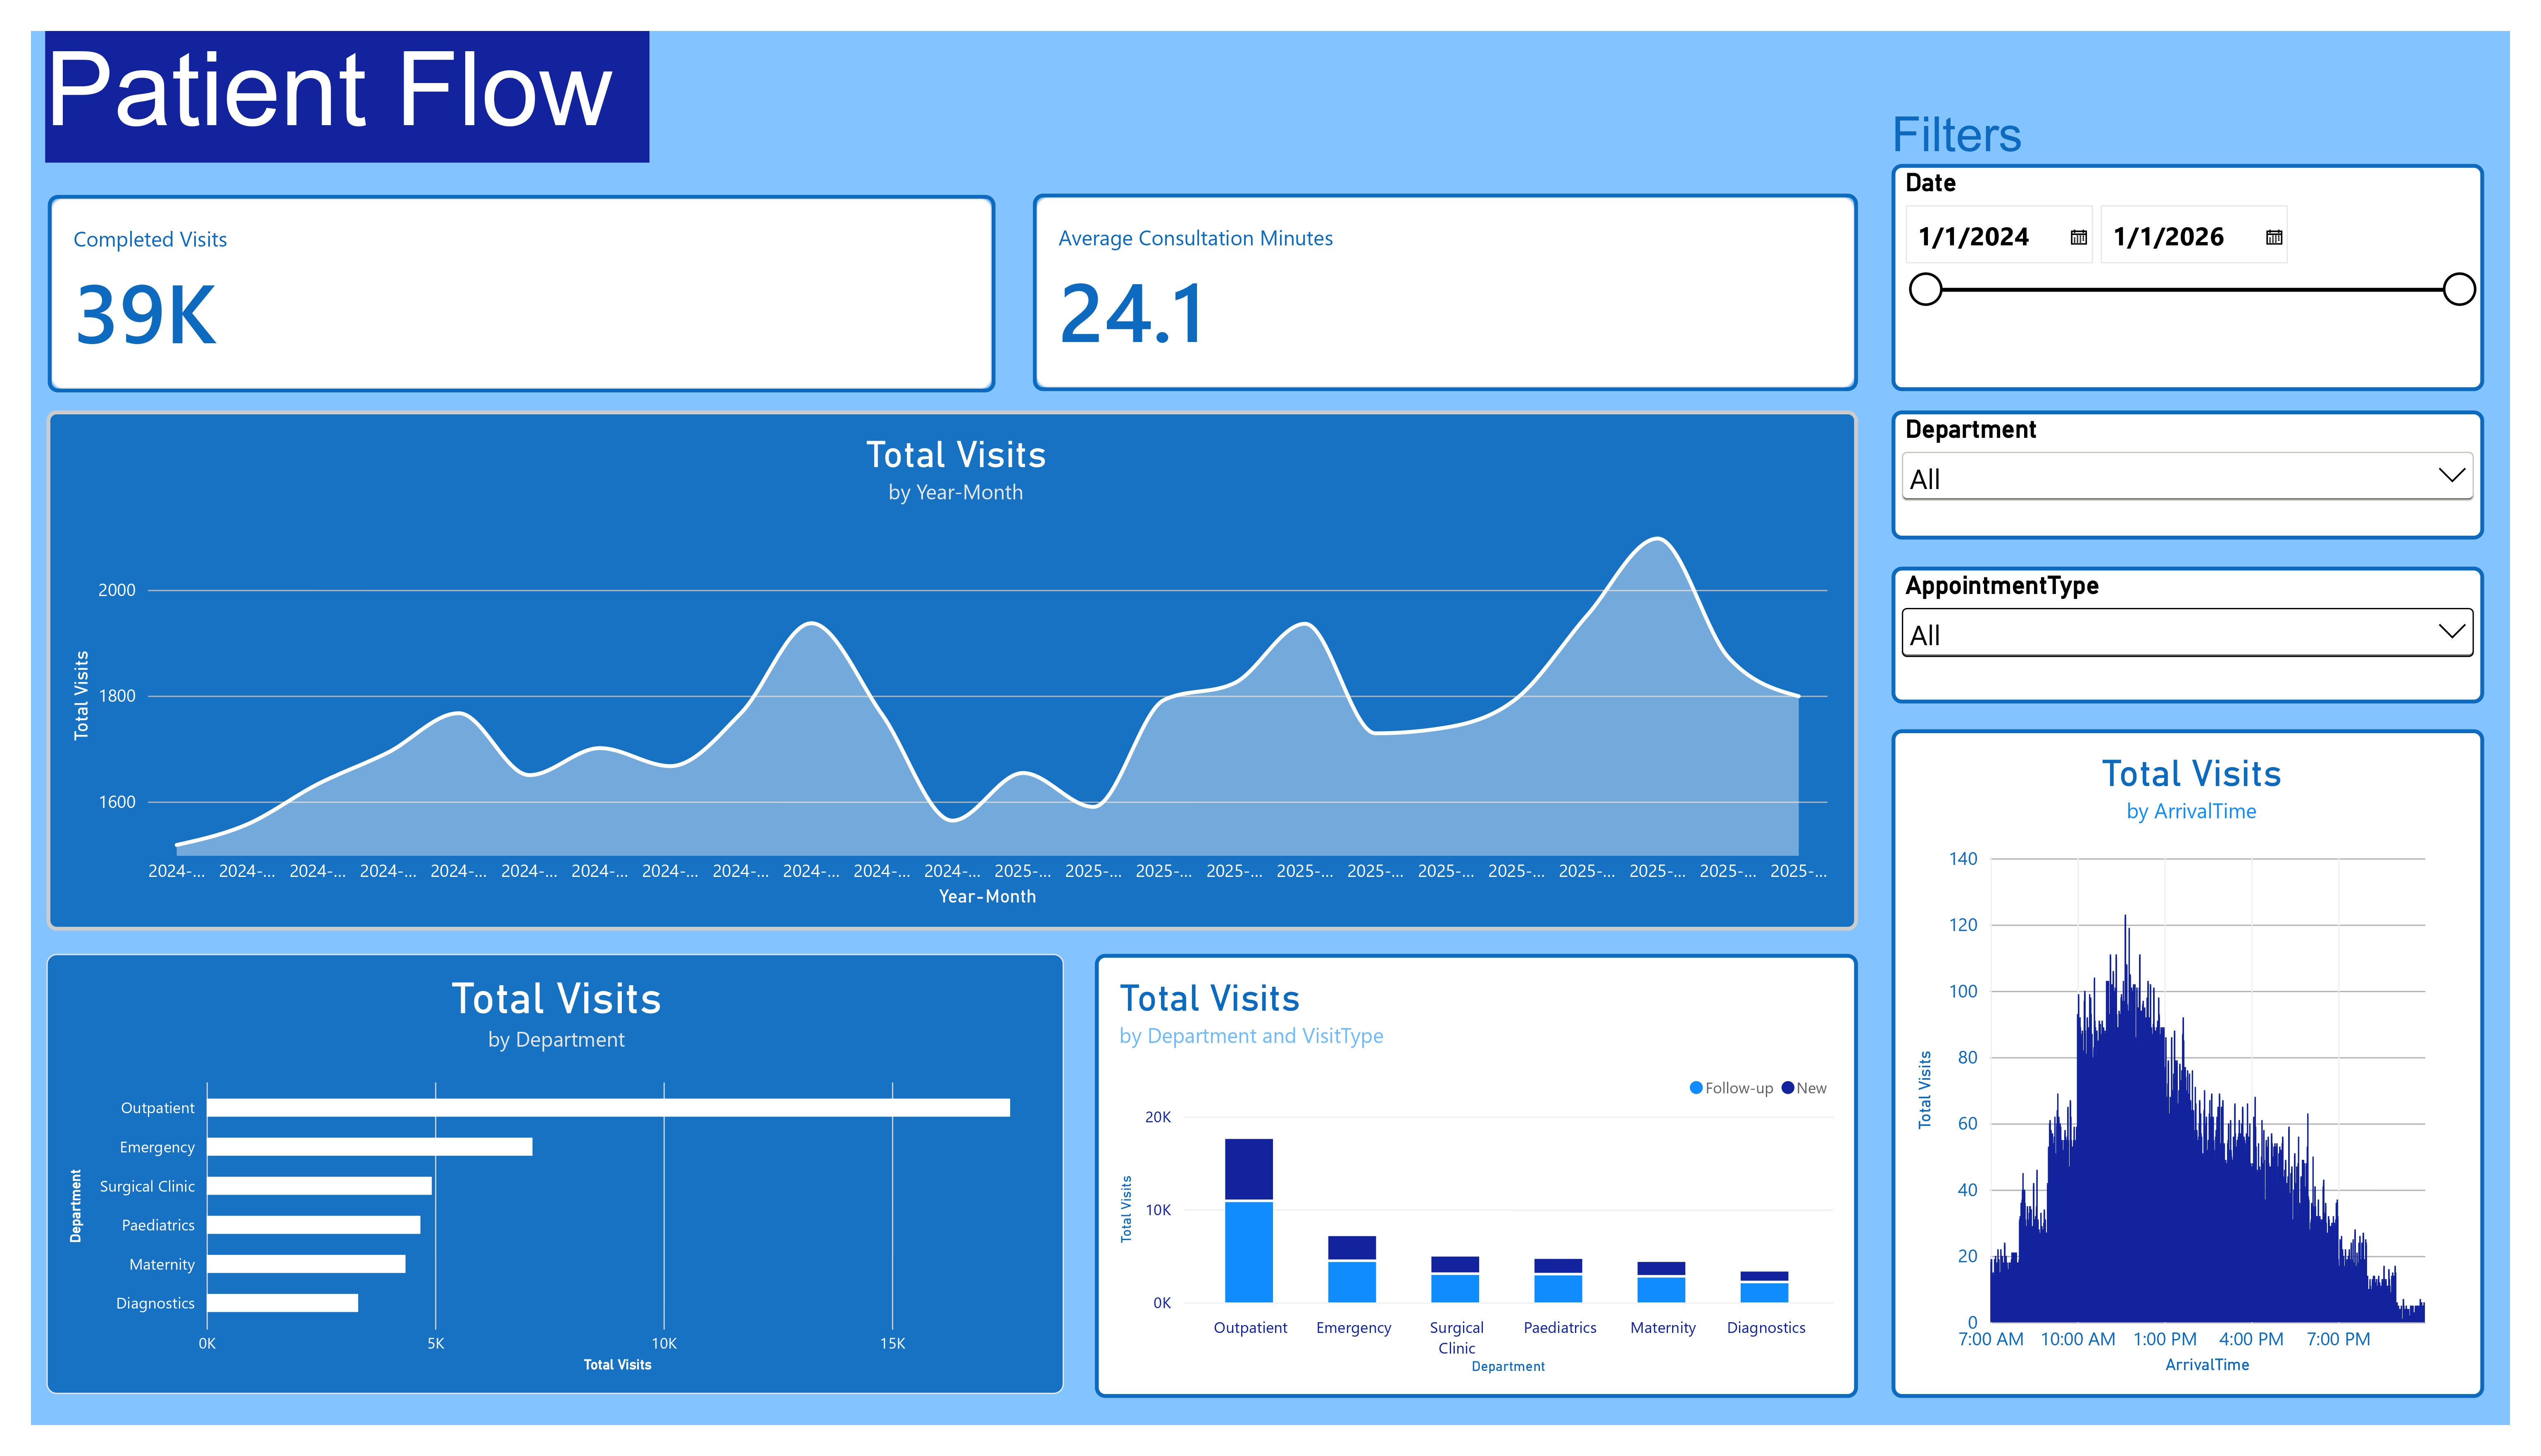

This screenshot's page, from the dashboard's own definition file:
{"tool":"powerbi","page":{"name":"Patient Flow","canvas":[1920,1080],"ordinal":1},"visuals":[{"type":"lineChart","fields":{"Category":["Calendar.Year-Month"],"Y":["Visits.Total Visits"]},"box":[11.8,294.1,1402.9,402.9],"z":0},{"type":"clusteredBarChart","fields":{"Category":["Visits.Department"],"Y":["Visits.Total Visits"]},"box":[11.8,714.7,788.2,341.2],"z":1000},{"type":"clusteredColumnChart","fields":{"Category":["Visits.ArrivalTime"],"Y":["Visits.Total Visits"]},"box":[1441.2,541.2,458.8,517.6],"z":2000},{"type":"columnChart","fields":{"Category":["Visits.Department"],"Series":["Visits.VisitType"],"Y":["Visits.Total Visits"]},"box":[823.5,714.7,591.2,344.1],"z":3000},{"type":"cardVisual","fields":{"Data":["Visits.Completed Visits"]},"box":[13.3,126.7,733.3,153.3],"z":4000},{"type":"cardVisual","fields":{"Data":["Visits.Average Consultation Minutes"]},"box":[776.5,126.5,638.2,152.9],"z":5000},{"type":"slicer","fields":{"Values":["Calendar.Date"]},"box":[1441.2,102.9,458.8,176.5],"z":6000},{"type":"slicer","fields":{"Values":["Visits.Department"]},"box":[1441.2,294.1,458.8,100],"z":7000},{"type":"slicer","fields":{"Values":["Visits.AppointmentType"]},"box":[1441.2,414.7,458.8,105.9],"z":8000},{"type":"textbox","box":[1441.2,58.8,385.3,44.1],"z":9000},{"type":"textbox","box":[11.3,0,467.7,102],"z":10000}]}

Visuals, with their boxes in screenshot pixels (x1, y1, x2, y2):
lineChart - Calendar.Year-Month x Visits.Total Visits: 29 404 1860 929
clusteredBarChart - Visits.Department x Visits.Total Visits: 29 952 1057 1397
clusteredColumnChart - Visits.ArrivalTime x Visits.Total Visits: 1894 726 2493 1401
columnChart - Visits.Department x Visits.VisitType: 1088 952 1860 1401
cardVisual - Visits.Completed Visits: 31 185 987 385
cardVisual - Visits.Average Consultation Minutes: 1027 185 1860 385
slicer - Calendar.Date: 1894 154 2493 385
slicer - Visits.Department: 1894 404 2493 534
slicer - Visits.AppointmentType: 1894 561 2493 699
textbox: 1894 97 2397 154
textbox: 28 20 638 153
